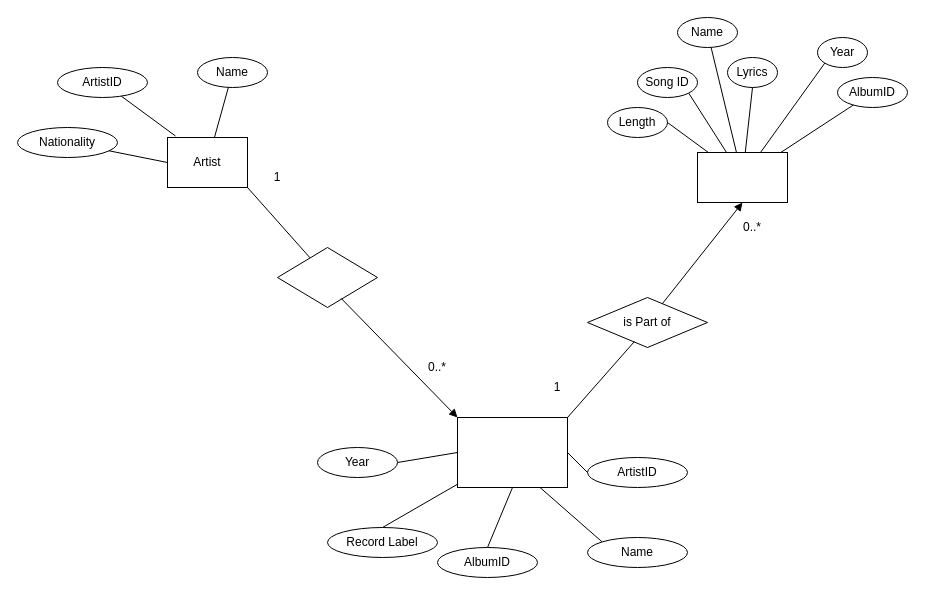
Some shapes in this 925 by 595 pixel diagram are drawn without their labels. Each missing label, with the centre of its shape:
Album: (512,452)
Makes: (327,277)
Song: (742,177)
